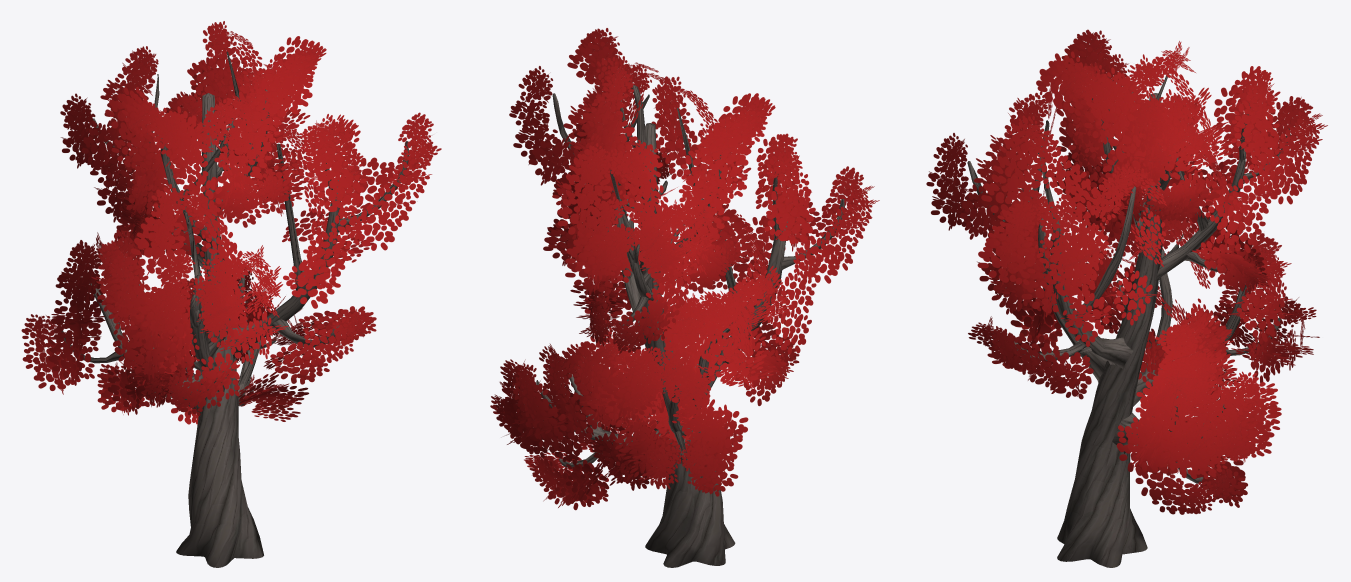
File: twist1.glb
The picture shows the model from 3 angles, left to right: view 1: azimuth 30°, elevation 25°; view 2: azimuth 150°, elevation 25°; view 3: azimuth 270°, elevation 25°; orthographic projection. The views are drawn at different scales.
Visible parts, largest first — view 1: TwistedTree_3; view 2: TwistedTree_3; view 3: TwistedTree_3.
Part boxes in pixels (x1,y1,x2,y2): TwistedTree_3: (21,21,441,567); TwistedTree_3: (490,28,879,567); TwistedTree_3: (926,29,1327,567).
Size of the model in its own units: 11.36 by 16.07 by 11.51.
2 materials, 2 textured.
